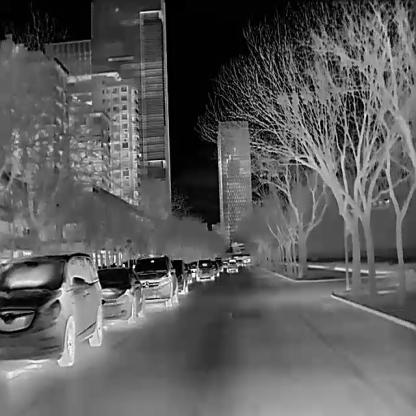car: (0, 250, 101, 365), (95, 267, 144, 322), (134, 255, 177, 308), (174, 258, 189, 294), (194, 258, 212, 281), (225, 258, 238, 274), (212, 261, 219, 277), (217, 261, 223, 271)
